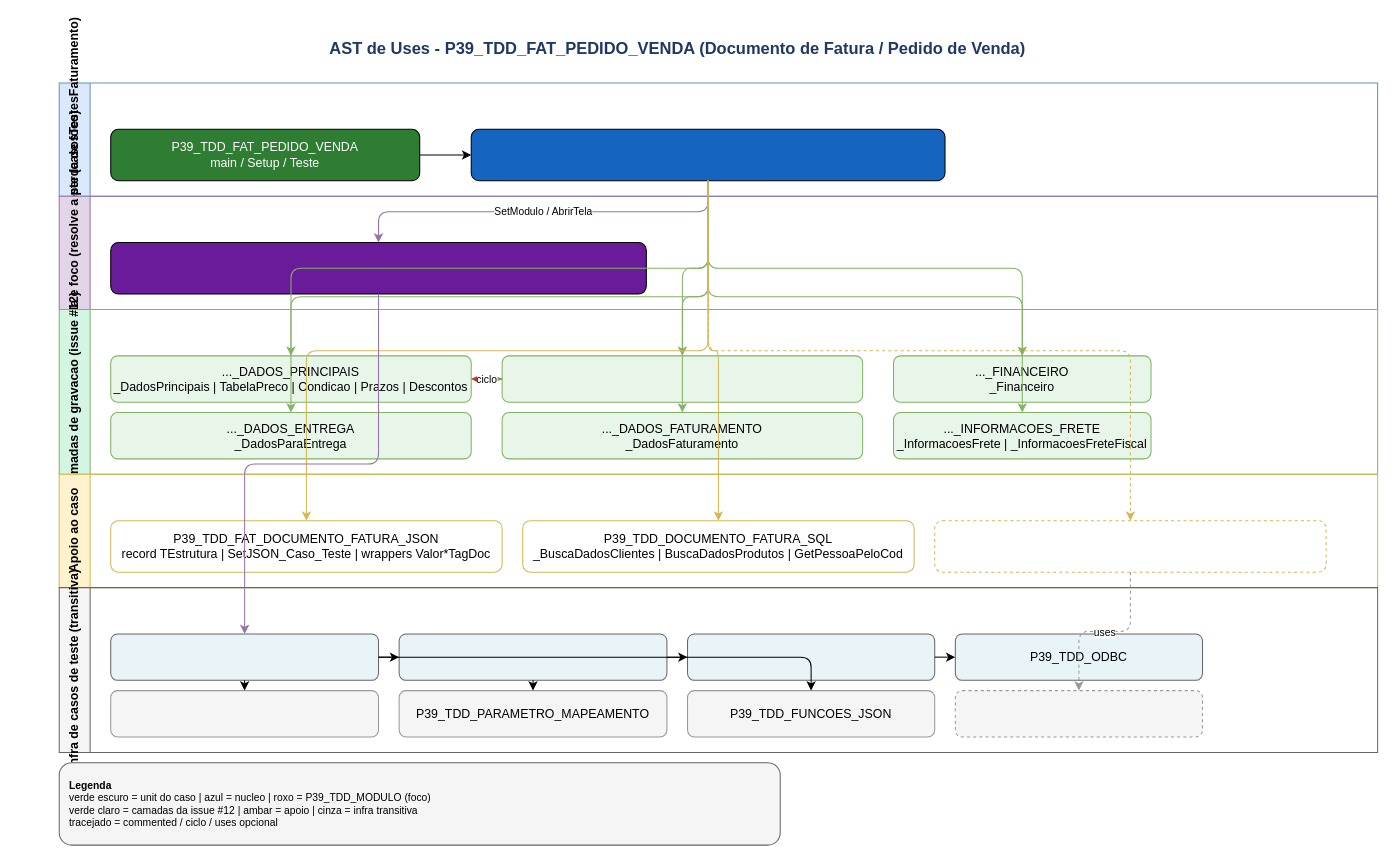
Image size: 1396x863. Some labels were removed from this diagram. The shapes that lost their labels are listed below. From the top down, each one's centre as x and y in pixels, then its label:
At point (707, 154): "P39_TDD_FAT_DOCUMENTO_FATURA orquestrador - 293 linhas (era 774)".
At point (378, 268): "P39_TDD_MODULO SetModulo | AbrirTela | FocarModulo | TrazerParaFrente".
At point (682, 378): "..._ITENS Itens_Incluir | _IncluiItensDocumento | _IncluiItensPorTag".
At point (1130, 546): "P39_TDD_FAT_VALIDAR_RESULTADO CompararResultadoEsperado (COMENTADO no fluxo)".
At point (244, 656): "P39_TDD_CASOS_DE_TESTE".
At point (532, 656): "P39_TDD_PARAMETROS VerificarParametros | Relogar".
At point (810, 656): "P39_TDD_CACHE".
At point (244, 713): "P39_TDD_CONSTANTES".
At point (1078, 713): "P39_TDD_ASSERTS (uses comentado - AssertsFalhou ATIVO em ..._ITENS)".
